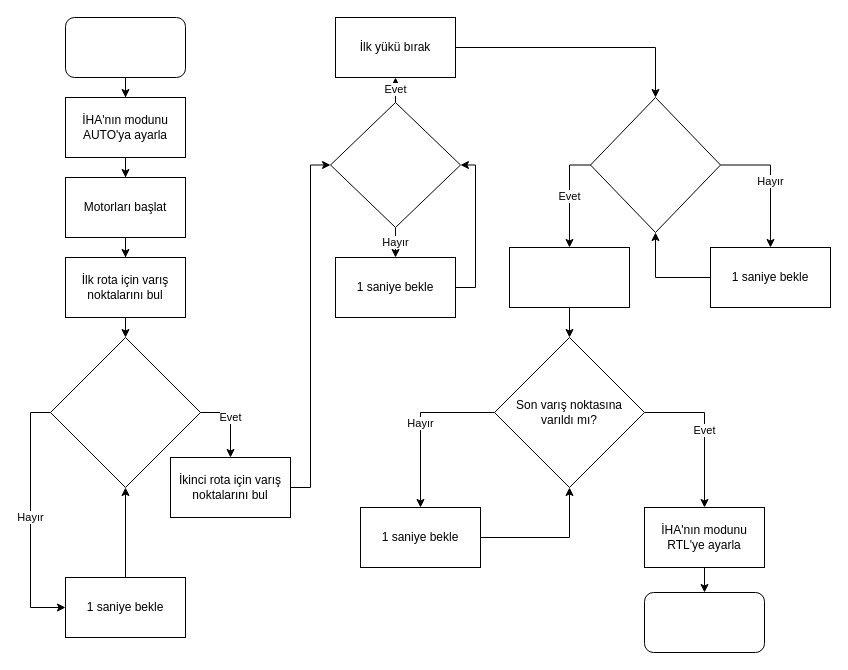
This 848x670 diagram has some shape labels left out. Each missing label, with the centre of its shape:
Başlangıç: [125,47]
Bitiş: [704,622]
İkinci atış bölgesine varıldı mı?: [655,164]
İkinci yükü bırak: [569,277]
İlk atış bölgesine varıldı mı?: [395,165]
Son varış noktasına ulaşıldı mı?: [125,412]
